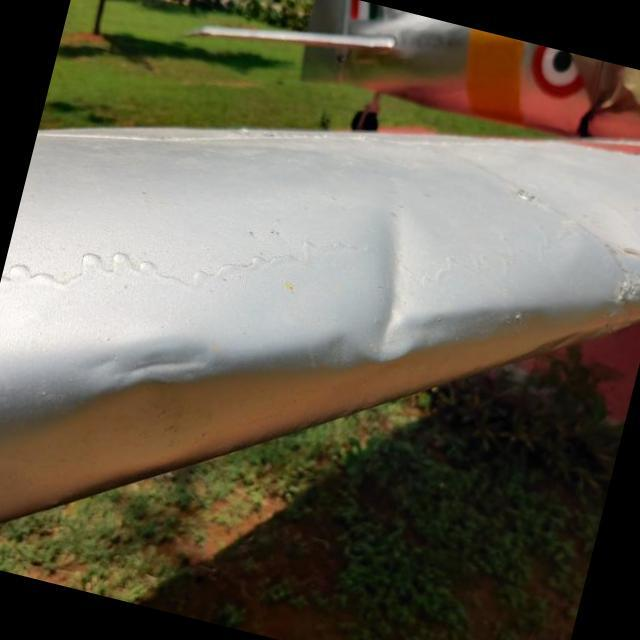Dent: (283, 179, 476, 398), (56, 288, 236, 440)
